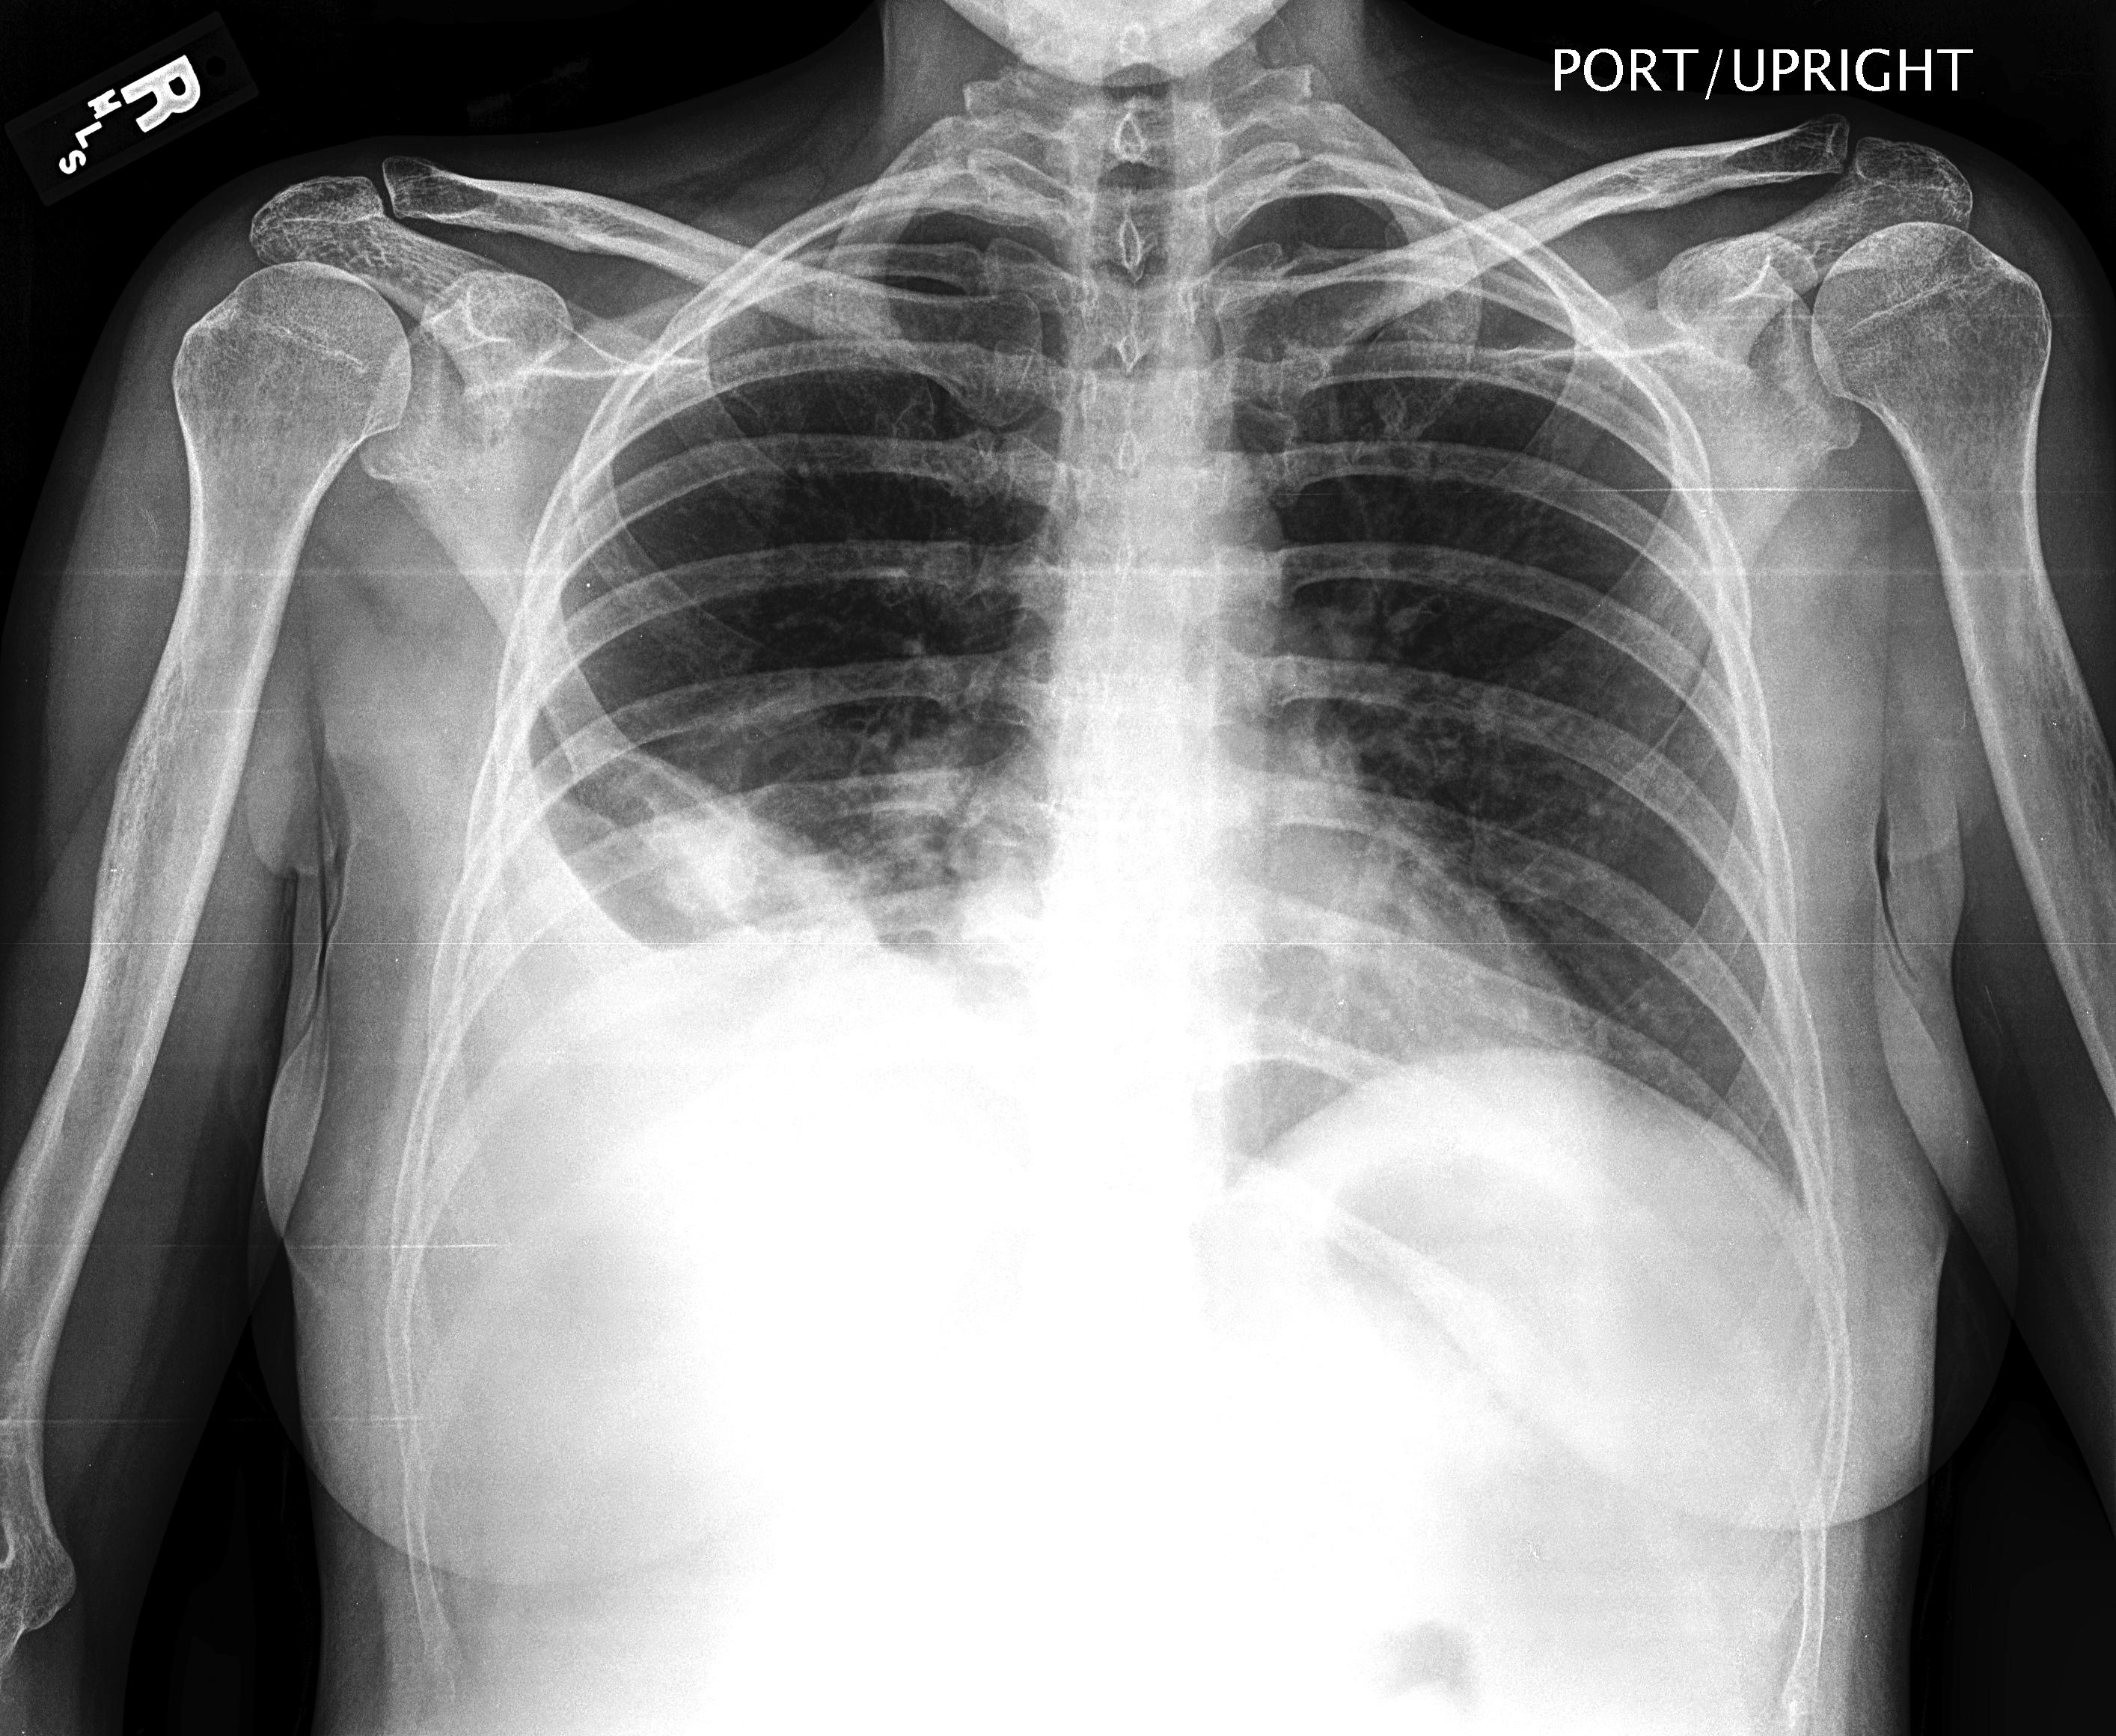Pleural Effusion: (406, 833, 796, 1283)
